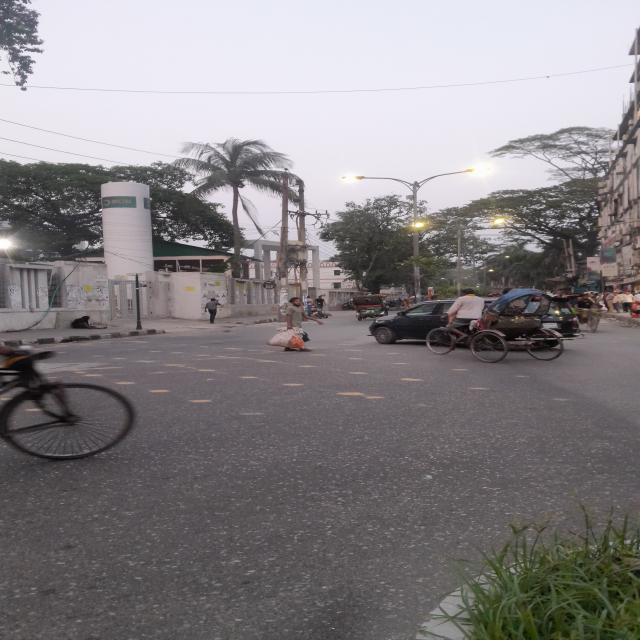person: (284, 297, 322, 351)
